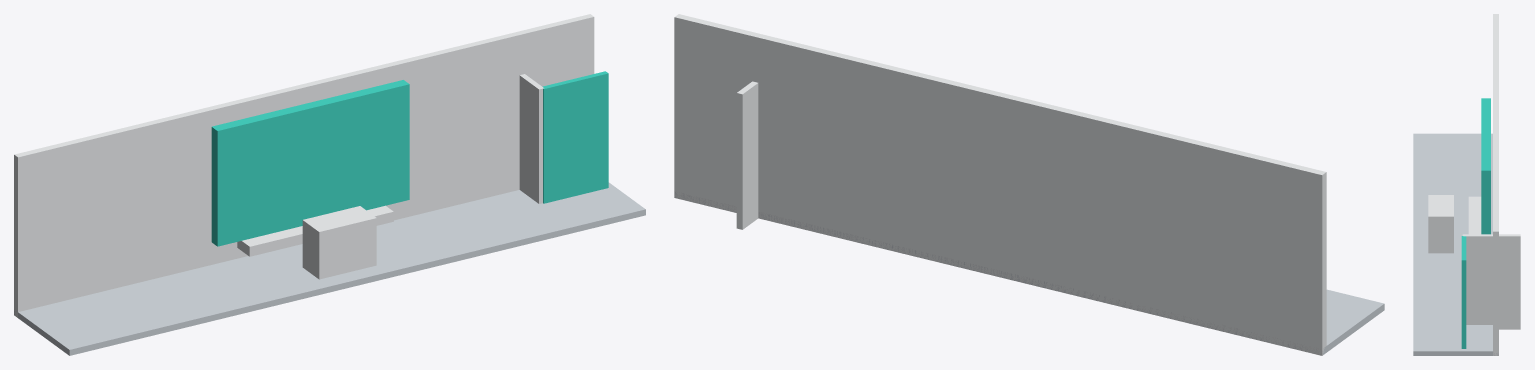
The picture shows the model from 3 angles, left to right: view 1: azimuth 30°, elevation 25°; view 2: azimuth 150°, elevation 25°; view 3: azimuth 270°, elevation 25°; orthographic projection. The views are drawn at different scales.
Visible parts, largest first — view 1: Exhibition Booth Concept; view 2: Exhibition Booth Concept; view 3: Exhibition Booth Concept.
Part boxes in pixels (x1,y1,x2,y2): Exhibition Booth Concept: (14,14,645,355); Exhibition Booth Concept: (674,14,1384,355); Exhibition Booth Concept: (1413,14,1520,355).
Size of the model in its own units: 12 by 3.2 by 2.5.
